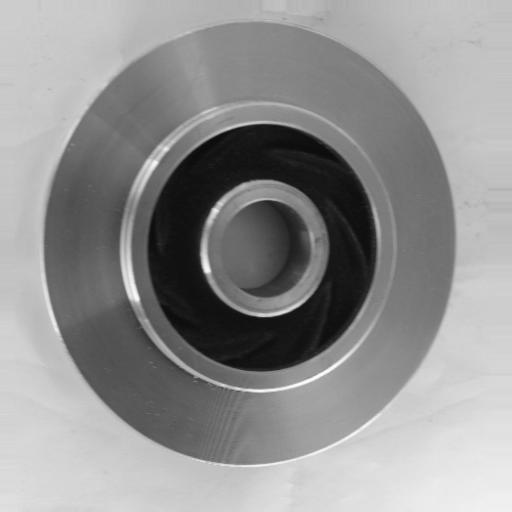polished_casting: (39, 20, 458, 467)
